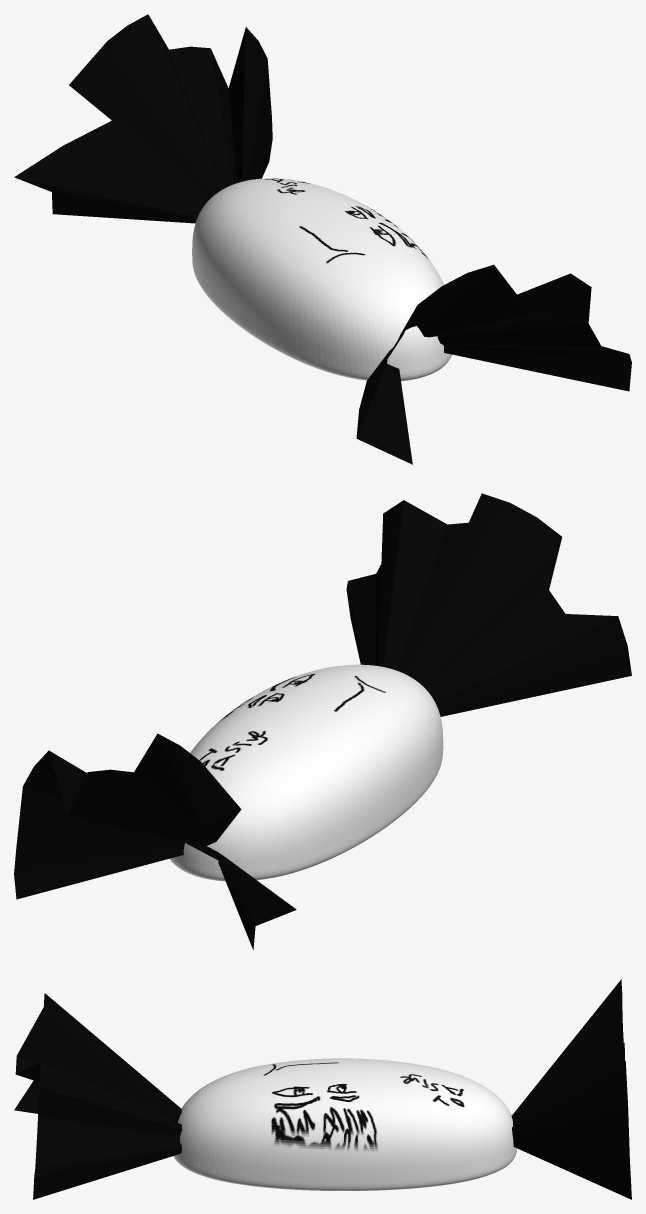
Rendered from bunuenazbikerekullanmazsanserefyok.fbx.
The picture shows the model from 3 angles, top to bottom: view 1: azimuth 30°, elevation 25°; view 2: azimuth 150°, elevation 25°; view 3: azimuth 270°, elevation 25°; orthographic projection. The views are drawn at different scales.
Visible parts, largest first — view 1: Cube, Cone.002, Cone.001; view 2: Cone.001, Cube, Cone.002; view 3: Cube, Cone.001, Cone.002.
Boxes of the visible parts, x1,y1,x2,y2 form: Cube: (192,178,451,381); Cone.002: (14,14,272,223); Cone.001: (356,264,631,464); Cone.001: (346,493,631,716); Cube: (169,664,443,881); Cone.002: (14,733,296,949); Cube: (173,1058,516,1190); Cone.001: (14,993,182,1199); Cone.002: (511,979,631,1199).
Size of the model in its own units: 111 by 70.1 by 234.
2 materials, 1 textured.
